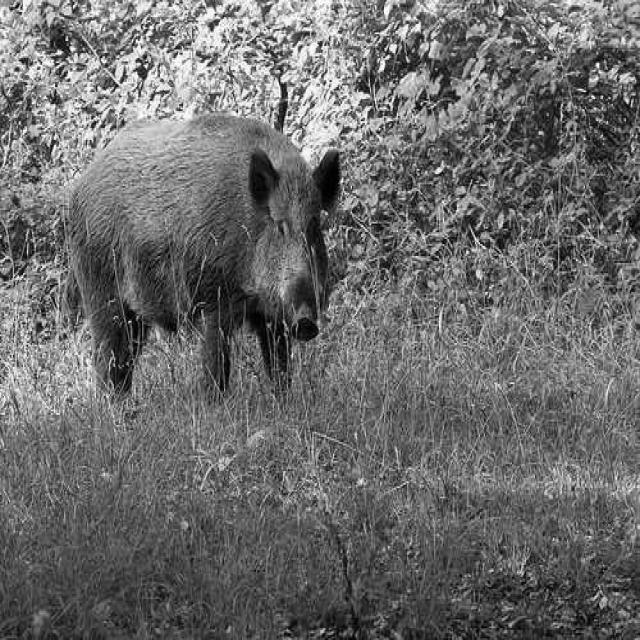boar: (65, 114, 340, 392)
